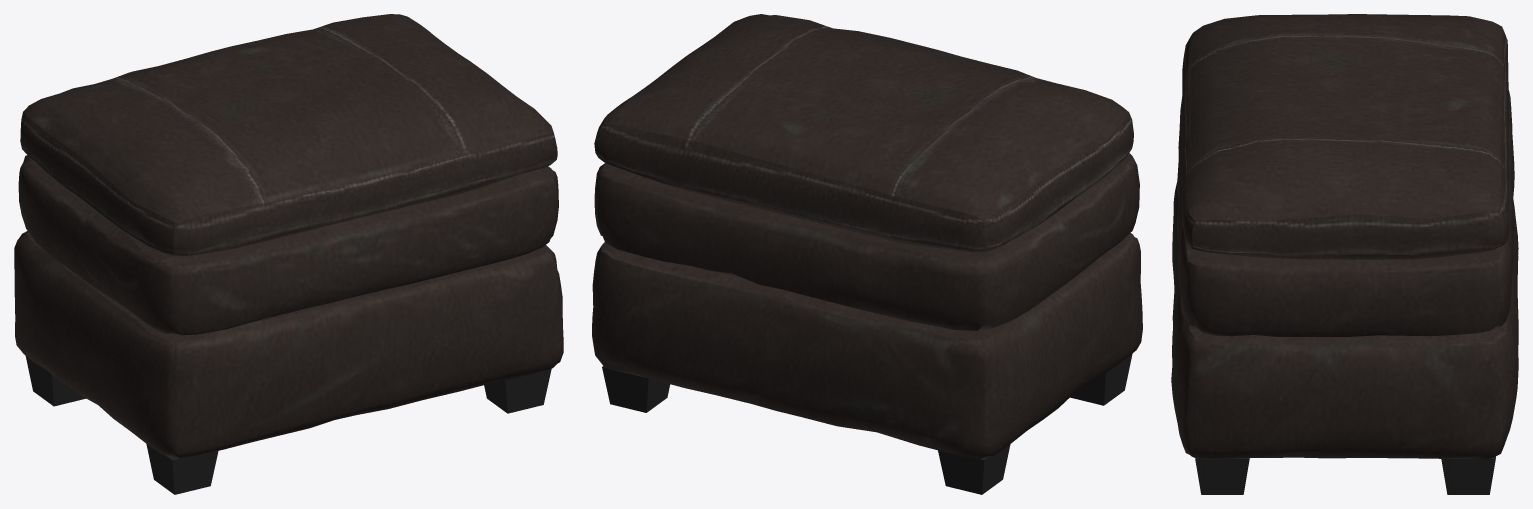
Rendered from Ottoman_01.glb.
3 views of the same model, side by side, from view 1: azimuth 30°, elevation 25°; view 2: azimuth 150°, elevation 25°; view 3: azimuth 270°, elevation 25° (orthographic).
Parts seen in each view (by area): view 1: Ottoman_01; view 2: Ottoman_01; view 3: Ottoman_01.
Part boxes in pixels (x1,y1,x2,y2): Ottoman_01: (14, 14, 563, 494); Ottoman_01: (592, 14, 1142, 494); Ottoman_01: (1171, 14, 1518, 494).
Bounding box in the file's own units: 0.8846 × 0.6243 × 0.6211.
1 material, 1 textured.
